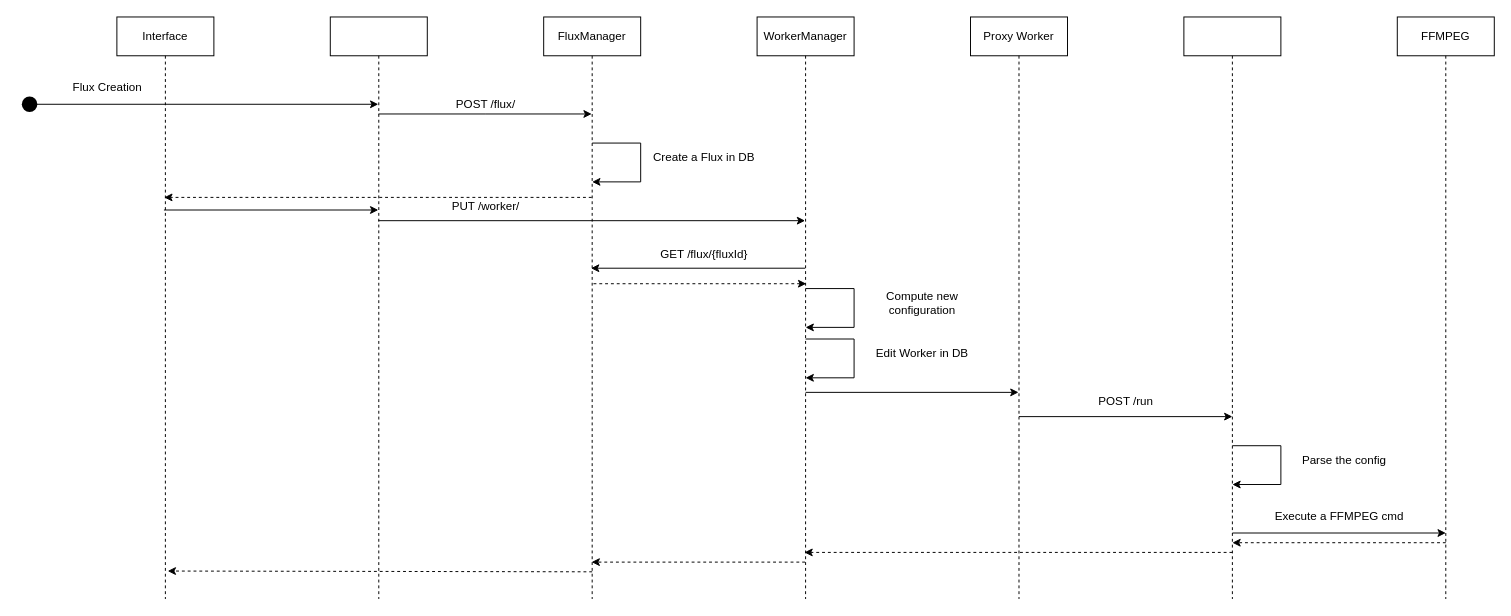
This 1511x616 diagram has some shape labels left out. Here are the shapes that lost their labels. From the top down, the box of each, then its label:
(329, 16, 427, 599): Proxy
(1183, 16, 1281, 599): Worker Agent
